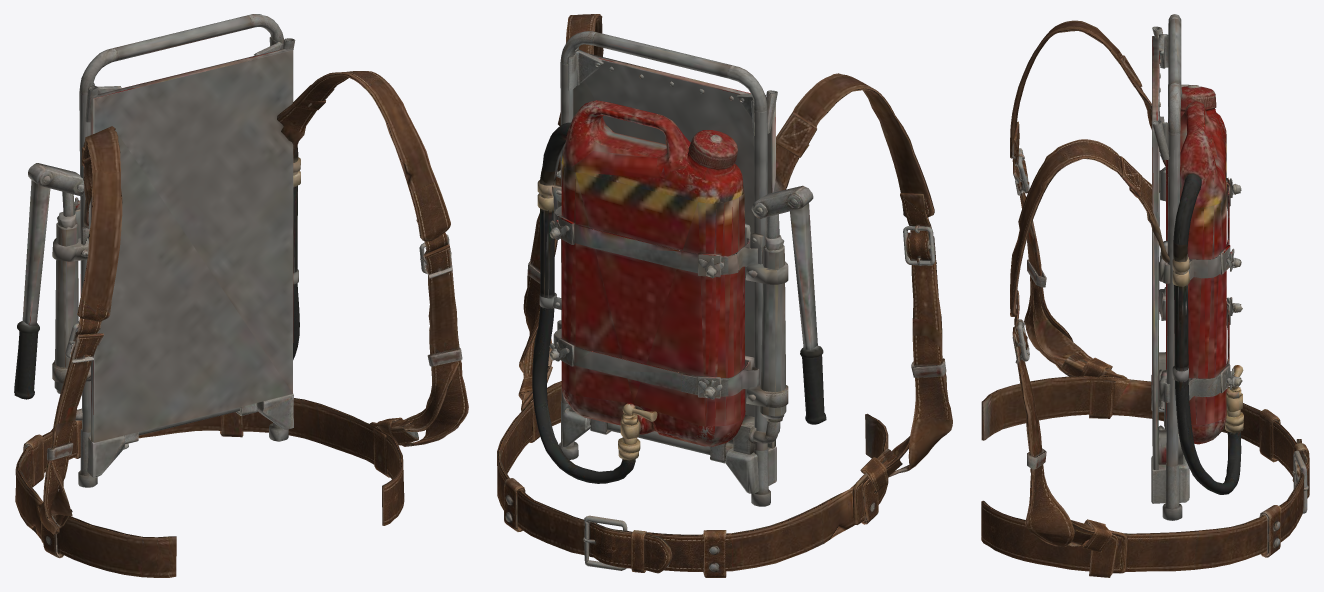
File: gear-fuel-tank.glb
3 views of the same model, side by side, from view 1: azimuth 30°, elevation 25°; view 2: azimuth 150°, elevation 25°; view 3: azimuth 270°, elevation 25° (orthographic). The views are drawn at different scales.
Visible parts, largest first — view 1: gear-fuel-tank; view 2: gear-fuel-tank; view 3: gear-fuel-tank.
Part boxes in pixels (x1,y1,x2,y2): gear-fuel-tank: [14, 14, 468, 577]; gear-fuel-tank: [497, 14, 952, 577]; gear-fuel-tank: [981, 14, 1309, 577].
Size of the model in its own units: 0.5895 by 0.62 by 0.4026.
1 material, 1 textured.
